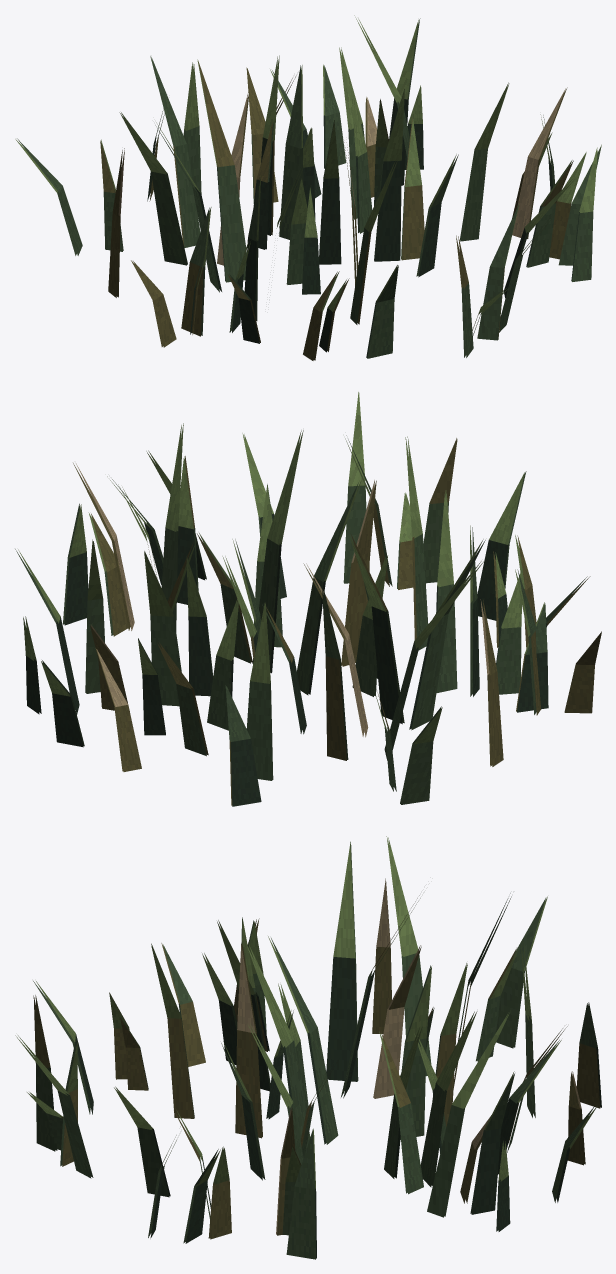
File: grass_patch.glb
3 renders of one model, top to bottom at view 1: azimuth 30°, elevation 25°; view 2: azimuth 150°, elevation 25°; view 3: azimuth 270°, elevation 25°, orthographic. The views are drawn at different scales.
Parts seen in each view (by area): view 1: grass_patch; view 2: grass_patch; view 3: grass_patch.
Part boxes in pixels (x1,y1,x2,y2): grass_patch: [15, 15, 601, 360]; grass_patch: [15, 392, 601, 806]; grass_patch: [15, 836, 601, 1259].
Size of the model in its own units: 0.8822 by 0.3597 by 0.8771.
Materials: 1 (1 with a texture image).
